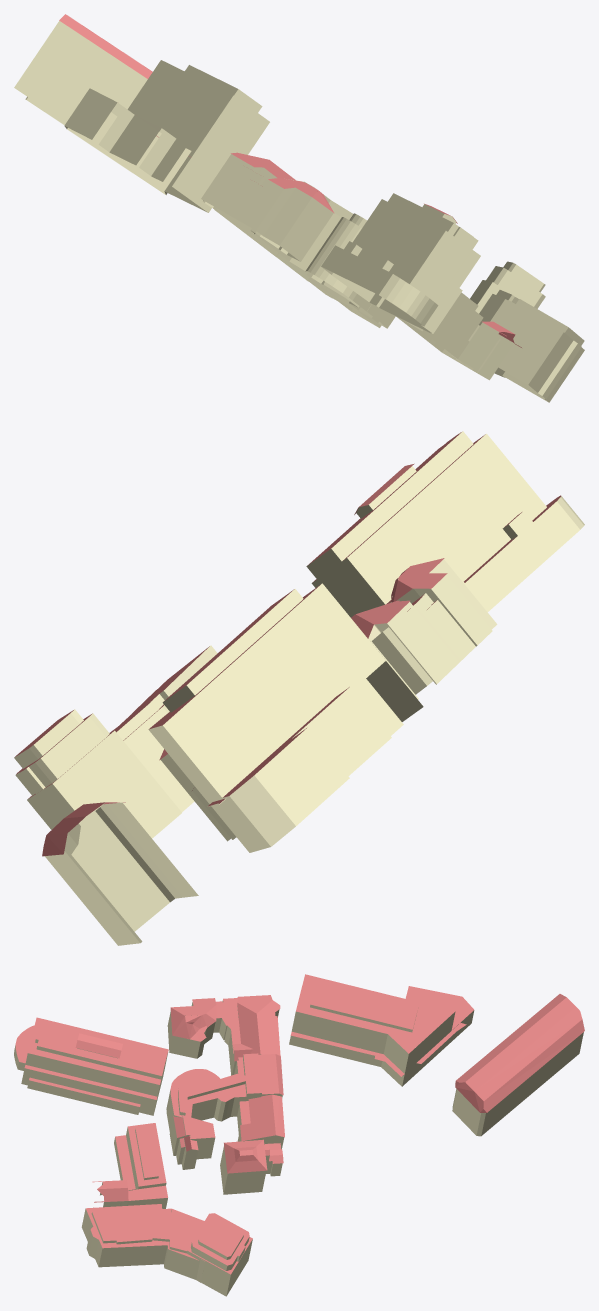
Rendered from tile_005.glb.
3 views of the same model, one above another, from view 1: azimuth 30°, elevation 25°; view 2: azimuth 150°, elevation 25°; view 3: azimuth 270°, elevation 25° (orthographic). The views are drawn at different scales.
Visible parts, largest first — view 1: Batched_Building_ID_7104933B-ACC3-478F-AB1C-6BDAFC00DCA4, Batched_Building_ID_AB9D37B9-E7DE-4D71-BF9F-A780EA9E9B06; view 2: Batched_Building_ID_7104933B-ACC3-478F-AB1C-6BDAFC00DCA4, Batched_Building_ID_AB9D37B9-E7DE-4D71-BF9F-A780EA9E9B06; view 3: Batched_Building_ID_AB9D37B9-E7DE-4D71-BF9F-A780EA9E9B06, Batched_Building_ID_7104933B-ACC3-478F-AB1C-6BDAFC00DCA4.
Part boxes in pixels (<box>): Batched_Building_ID_7104933B-ACC3-478F-AB1C-6BDAFC00DCA4: <box>14,21,584,402</box>; Batched_Building_ID_AB9D37B9-E7DE-4D71-BF9F-A780EA9E9B06: <box>59,14,521,347</box>; Batched_Building_ID_7104933B-ACC3-478F-AB1C-6BDAFC00DCA4: <box>14,431,584,945</box>; Batched_Building_ID_AB9D37B9-E7DE-4D71-BF9F-A780EA9E9B06: <box>14,432,560,856</box>; Batched_Building_ID_AB9D37B9-E7DE-4D71-BF9F-A780EA9E9B06: <box>15,974,584,1274</box>; Batched_Building_ID_7104933B-ACC3-478F-AB1C-6BDAFC00DCA4: <box>14,1000,583,1296</box>.
Bounding box in the file's own units: 120 × 98.77 × 213.
